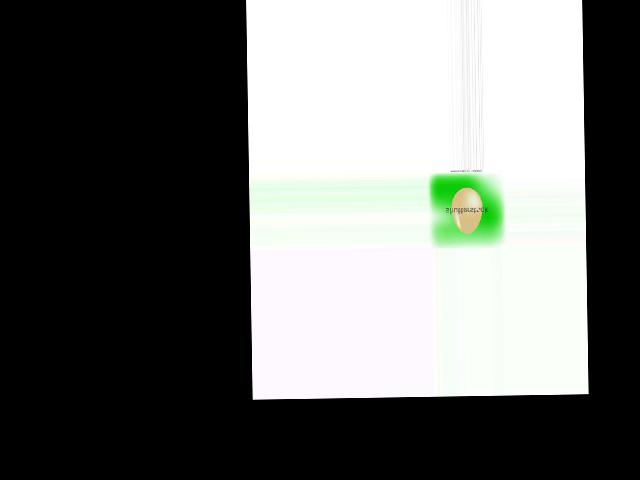egg: (451, 187, 483, 234)
